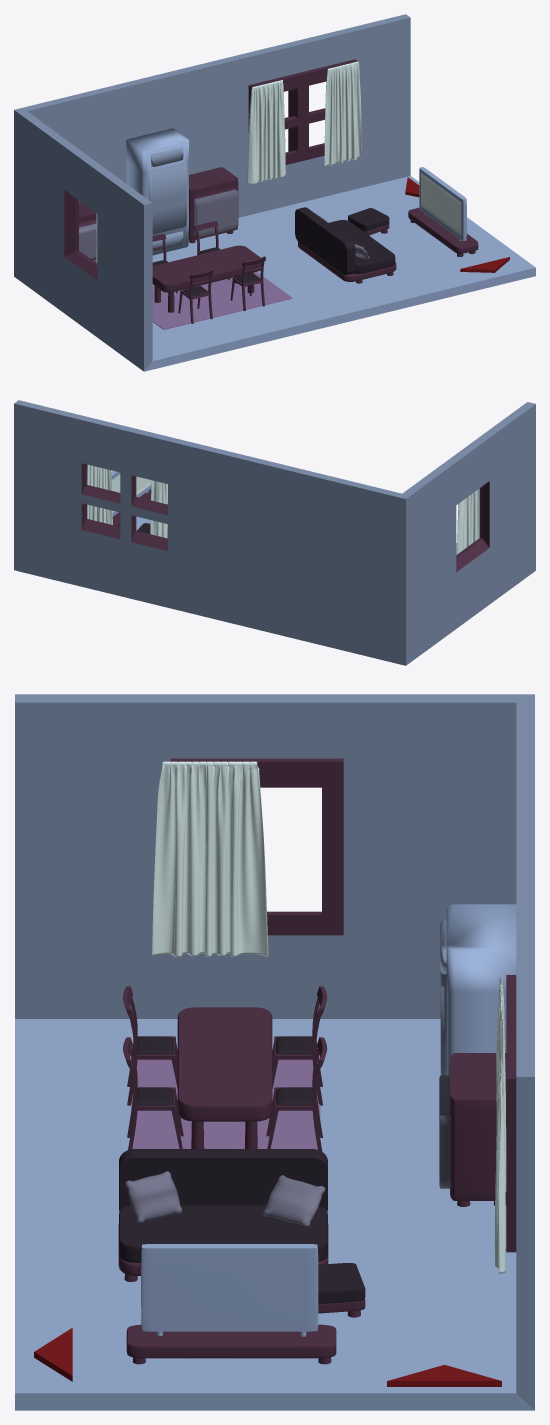
File: Sala_Oscura.fbx
3 renders of one model, top to bottom at view 1: azimuth 30°, elevation 25°; view 2: azimuth 150°, elevation 25°; view 3: azimuth 270°, elevation 25°, orthographic. The views are drawn at different scales.
Parts seen in each view (by area): view 1: Pared, Nevera, Colchon, Cortina izq, Cortina der, Plano, Mesa, Meson, Chair2, Tele, Mesa tele, Meson 2 (+2 smaller); view 2: Pared, Cortina 1, Cortina der, Cortina izq, Tele; view 3: Pared, Cortina 1, Colchon, Tele, Mesa, Nevera, Meson, Chair2, Plano, Mesa tele, Almohada.001, Almohada (+5 smaller).
Boxes of the visible parts, <box> form: Pared: <box>14,14,535,371</box>; Nevera: <box>126,128,188,255</box>; Colchon: <box>295,207,395,275</box>; Cortina izq: <box>247,80,285,184</box>; Cortina der: <box>324,61,361,166</box>; Plano: <box>152,271,292,329</box>; Mesa: <box>152,245,261,312</box>; Meson: <box>189,167,238,243</box>; Chair2: <box>152,221,265,323</box>; Tele: <box>419,167,466,241</box>; Mesa tele: <box>408,207,478,256</box>; Meson 2: <box>79,201,96,262</box>; Pared: <box>14,400,535,665</box>; Cortina 1: <box>457,488,479,554</box>; Cortina der: <box>87,464,112,524</box>; Cortina izq: <box>150,480,167,538</box>; Tele: <box>111,471,151,516</box>; Pared: <box>15,694,534,1410</box>; Cortina 1: <box>152,761,268,957</box>; Colchon: <box>119,1149,327,1262</box>; Tele: <box>141,1244,318,1336</box>; Mesa: <box>177,1007,272,1148</box>; Nevera: <box>440,904,516,1075</box>; Meson: <box>439,1053,506,1206</box>; Chair2: <box>123,986,327,1151</box>; Plano: <box>131,1057,320,1149</box>; Mesa tele: <box>126,1324,336,1364</box>; Almohada.001: <box>263,1175,325,1226</box>; Almohada: <box>125,1171,182,1222</box>.
Size of the model in its own units: 1836 by 747 by 1056.
